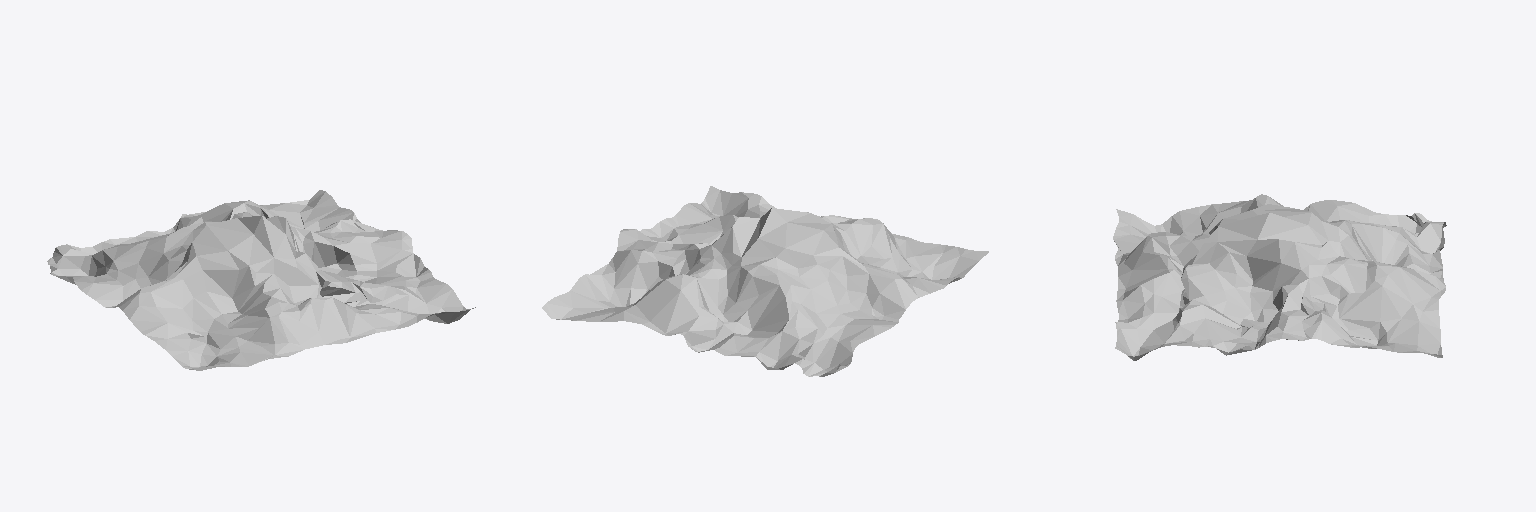
File: landscape.obj
The picture shows the model from 3 angles: view 1: azimuth 30°, elevation 25°; view 2: azimuth 150°, elevation 25°; view 3: azimuth 270°, elevation 25°; orthographic projection.
Visible parts, largest first — view 1: Plane.003_Plane.002; view 2: Plane.003_Plane.002; view 3: Plane.003_Plane.002.
Part boxes in pixels (x1,y1,x2,y2): Plane.003_Plane.002: (47,190,475,370); Plane.003_Plane.002: (542,186,988,376); Plane.003_Plane.002: (1113,194,1446,360).
Size of the model in its own units: 130 by 36.7 by 126.